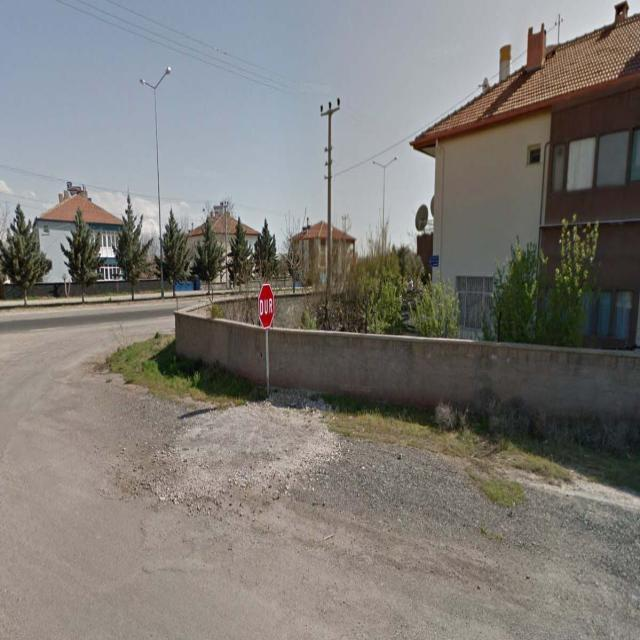dur: (257, 284, 276, 329)
